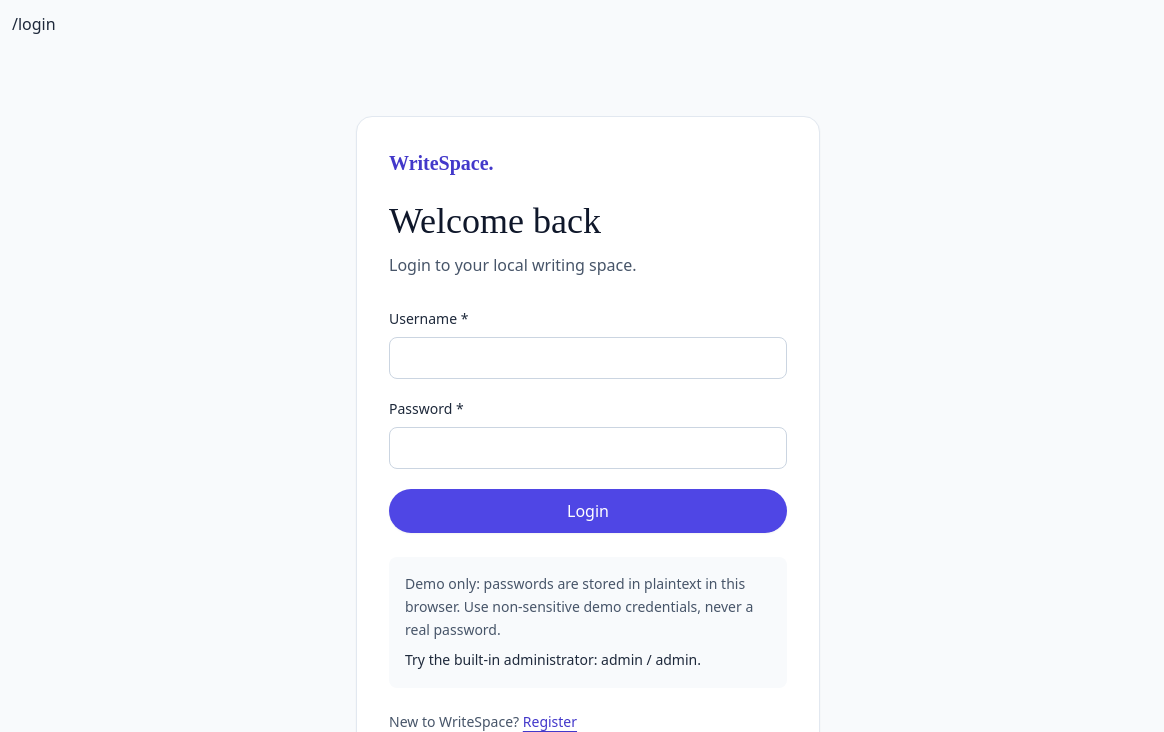
Scenario: LoginPage › blocks a missing Username with an associated inline error
In the password field labelled "Password *": coordinates (588, 448) [389, 427, 787, 469], type "admin"
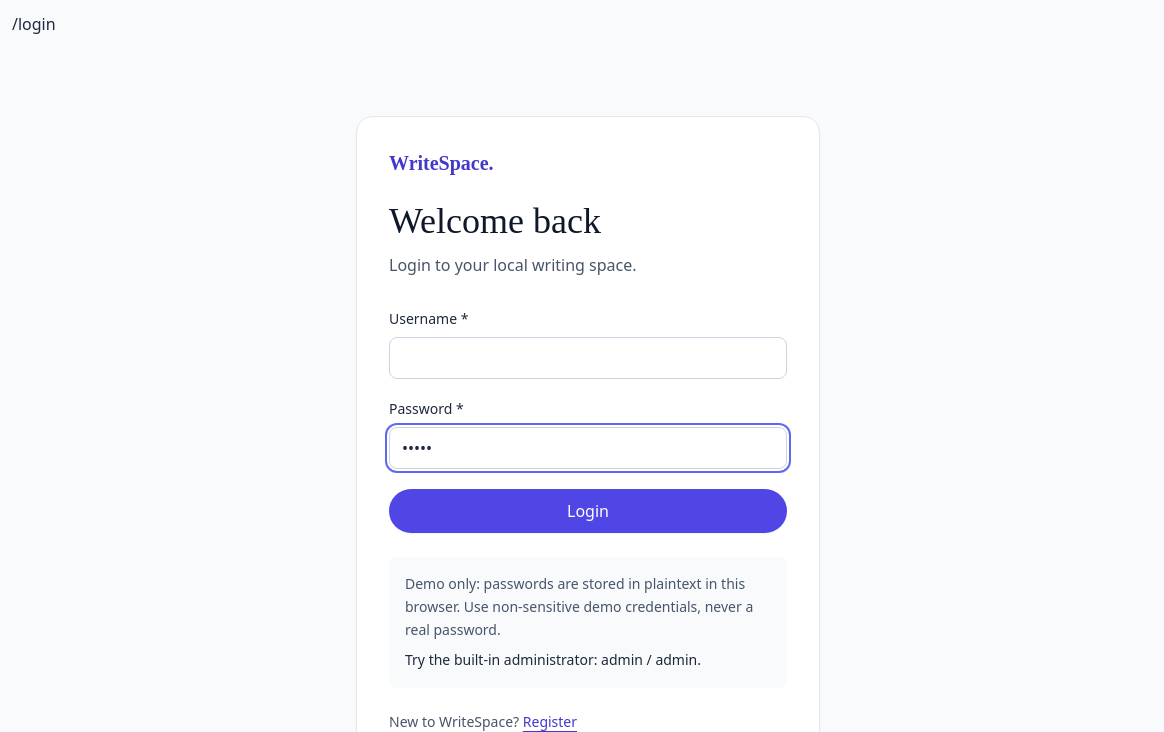
Click the button "Login": coordinates (588, 511) [389, 489, 787, 533]
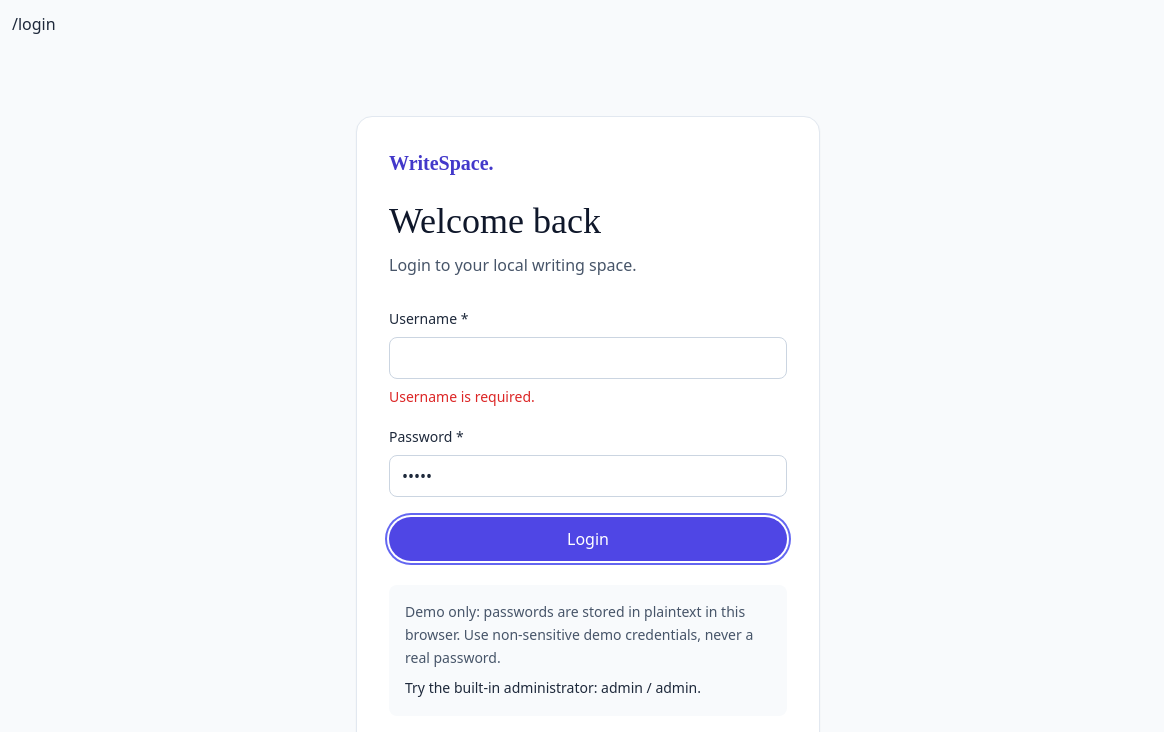
Expected: the text named "Current route" reads "/login", [12, 13, 56, 35]
Expected: the message reads "Username is required.", [389, 387, 535, 406]
